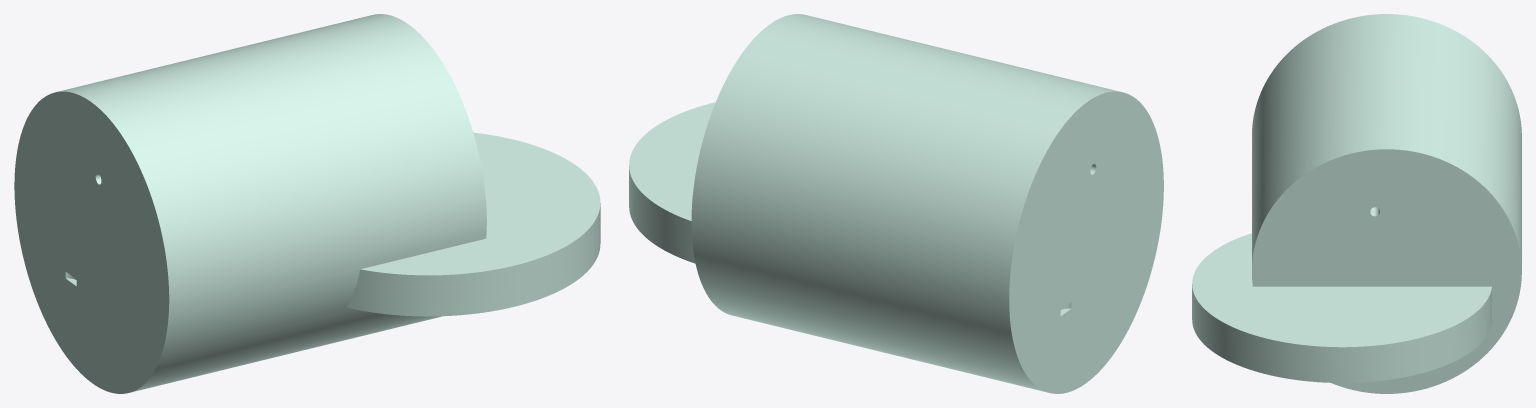
3 renders of one model, left to right at view 1: azimuth 30°, elevation 25°; view 2: azimuth 150°, elevation 25°; view 3: azimuth 270°, elevation 25°, orthographic. The views are drawn at different scales.
Visible parts, largest first — view 1: Renderer Node; view 2: Renderer Node; view 3: Renderer Node.
Part boxes in pixels (box(x1,y1,x2,y2)): Renderer Node: box(14, 14, 600, 393); Renderer Node: box(629, 14, 1163, 393); Renderer Node: box(1192, 14, 1521, 393).
Size of the model in its own units: 1.1 by 0.6395 by 0.7807.
